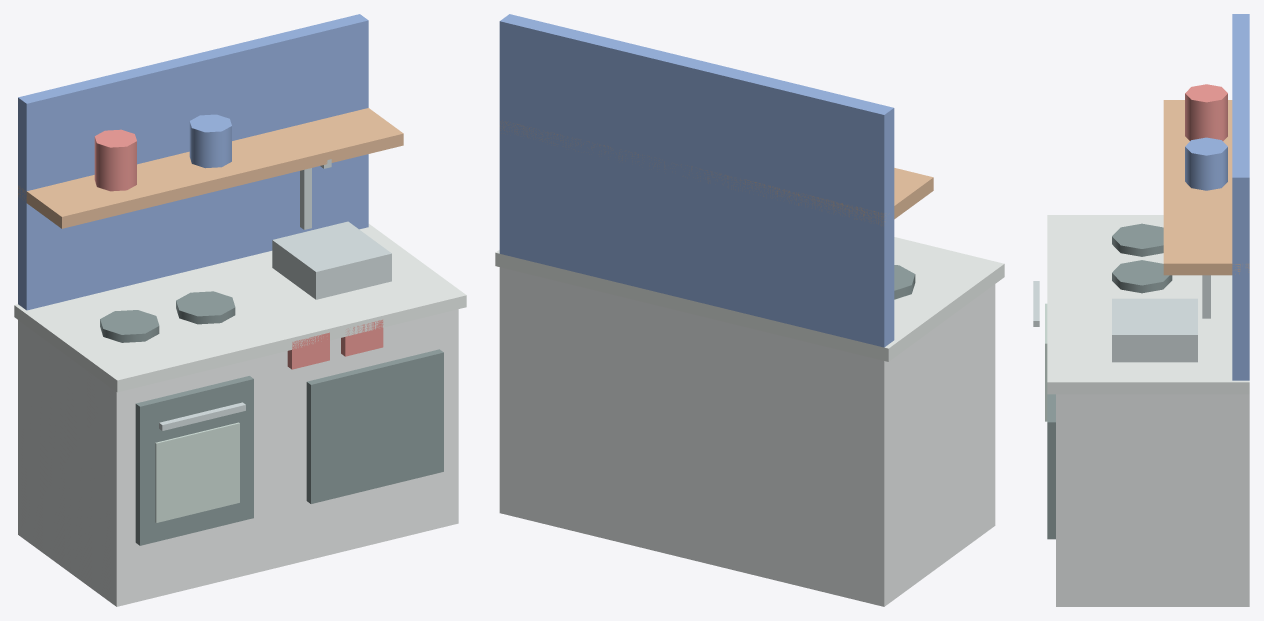
File: playKitchen.glb
3 views of the same model, side by side, from view 1: azimuth 30°, elevation 25°; view 2: azimuth 150°, elevation 25°; view 3: azimuth 270°, elevation 25° (orthographic). The views are drawn at different scales.
Visible parts, largest first — view 1: playKitchen; view 2: playKitchen; view 3: playKitchen.
Part boxes in pixels (x1,y1,x2,y2): playKitchen: (14, 14, 466, 606); playKitchen: (495, 14, 1004, 606); playKitchen: (1033, 14, 1249, 606).
Bounding box in the file's own units: 0.46 × 0.55 × 0.2512.
